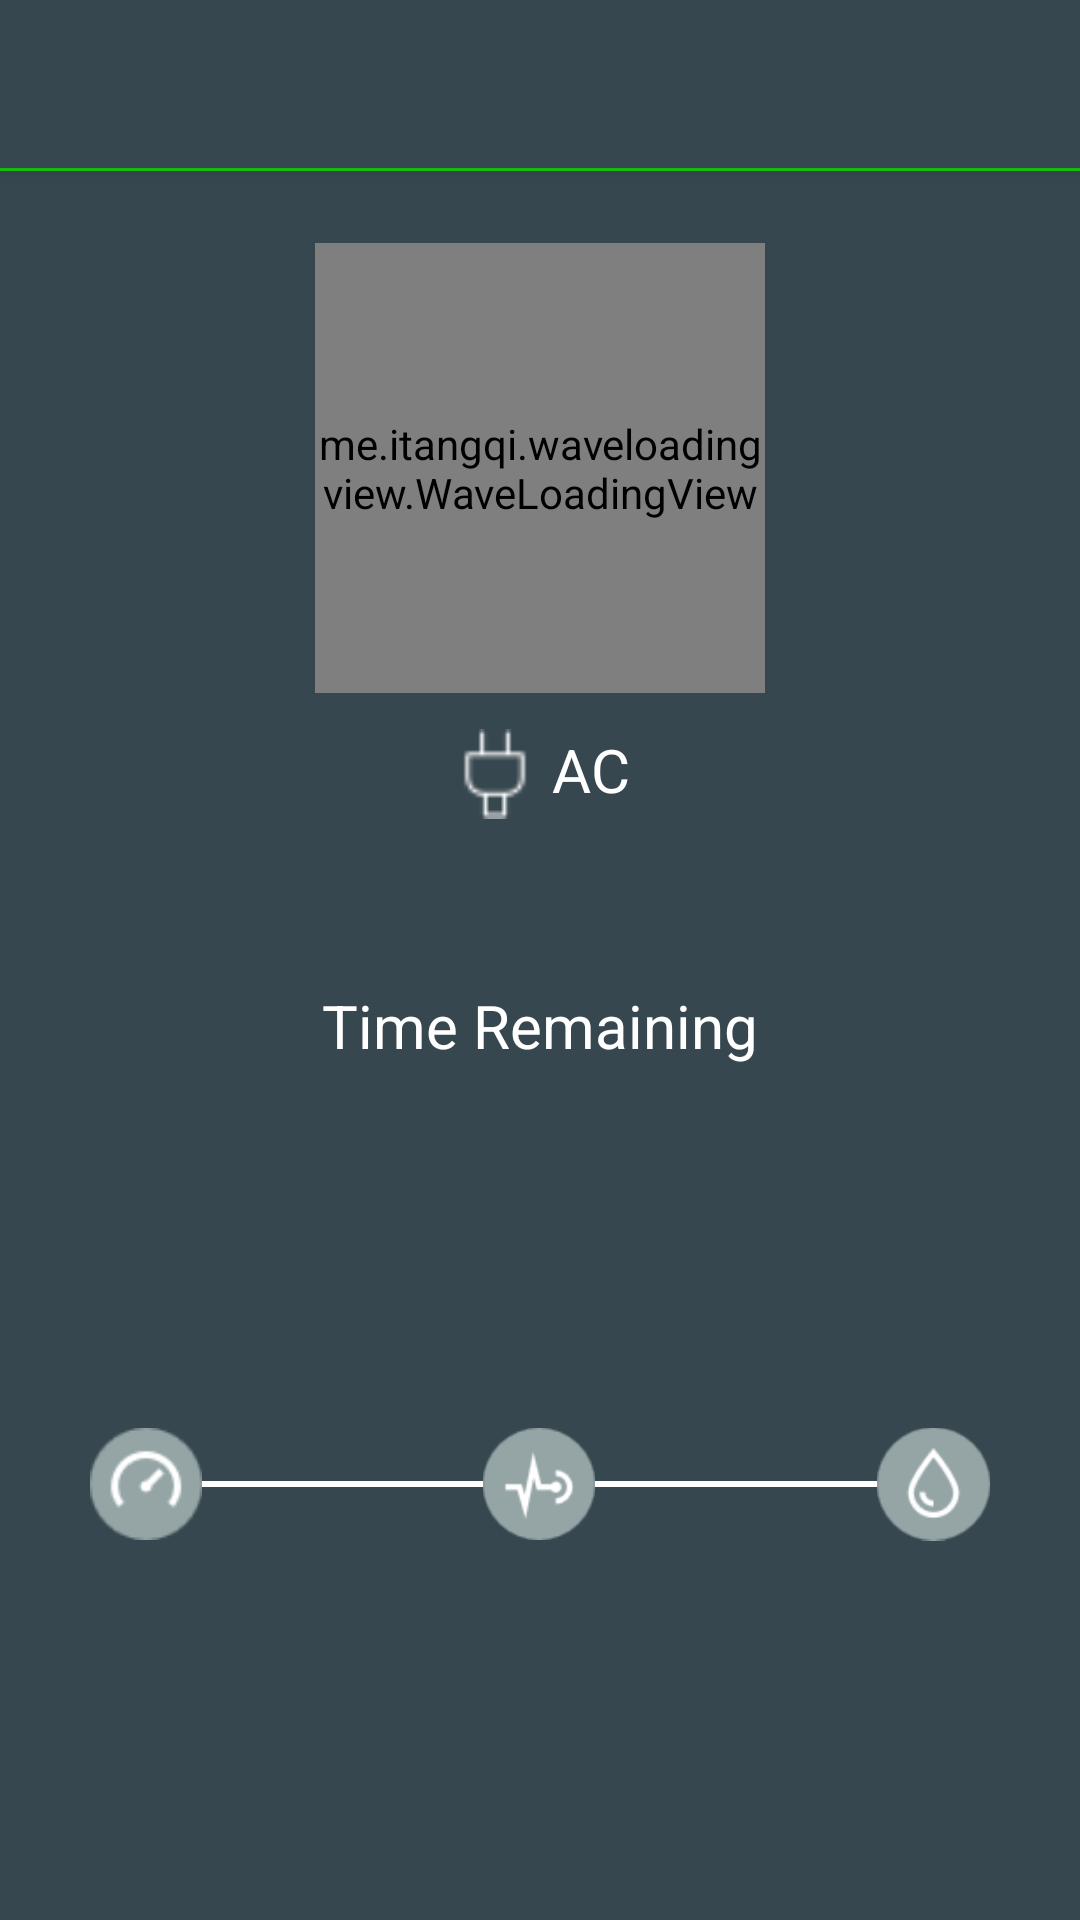

Icon bounding boxes for this 1080×1920 phone screenshot, format (x1, y1, x2, y2):
charge continuous: (483, 1428, 595, 1540)
charge speed: (90, 1428, 202, 1540)
charge trickle: (877, 1428, 990, 1541)
plug in: (464, 729, 526, 819)
